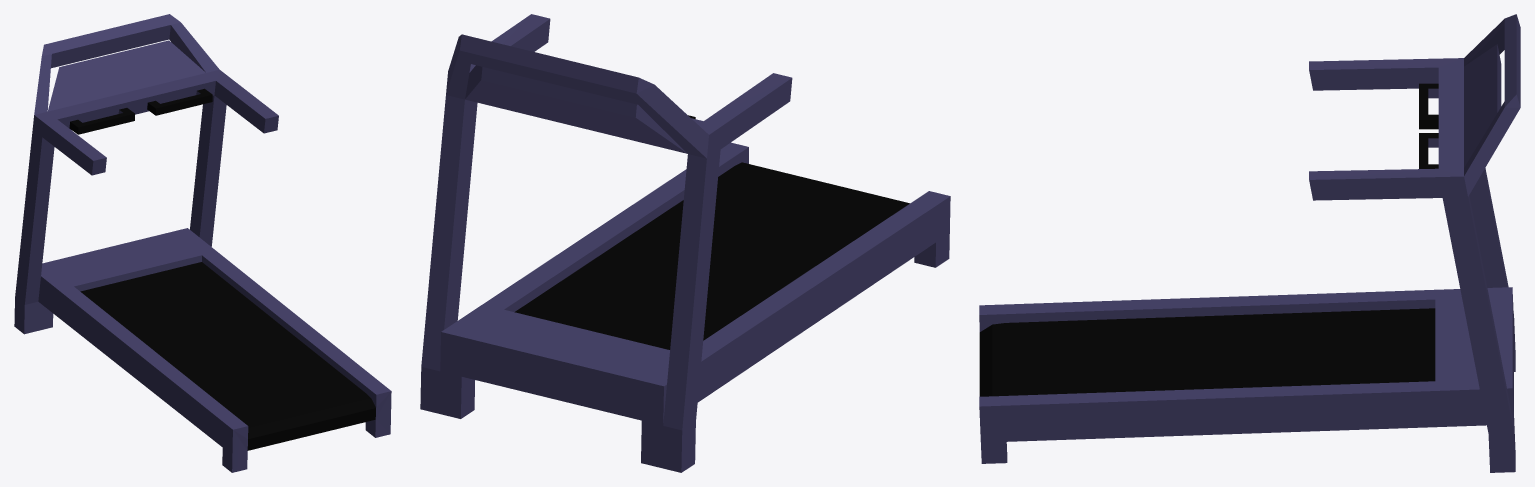
File: caminadora.fbx
The picture shows the model from 3 angles, left to right: view 1: azimuth 30°, elevation 25°; view 2: azimuth 150°, elevation 25°; view 3: azimuth 270°, elevation 25°; orthographic projection. The views are drawn at different scales.
Visible parts, largest first — view 1: Treadmill; view 2: Treadmill; view 3: Treadmill.
Part boxes in pixels (x1=…): Treadmill: x1=14, y1=14, x2=391, y2=472; Treadmill: x1=420, y1=14, x2=950, y2=472; Treadmill: x1=979, y1=14, x2=1520, y2=472.
Bounding box in the file's own units: 64.07 × 90.68 × 124.
